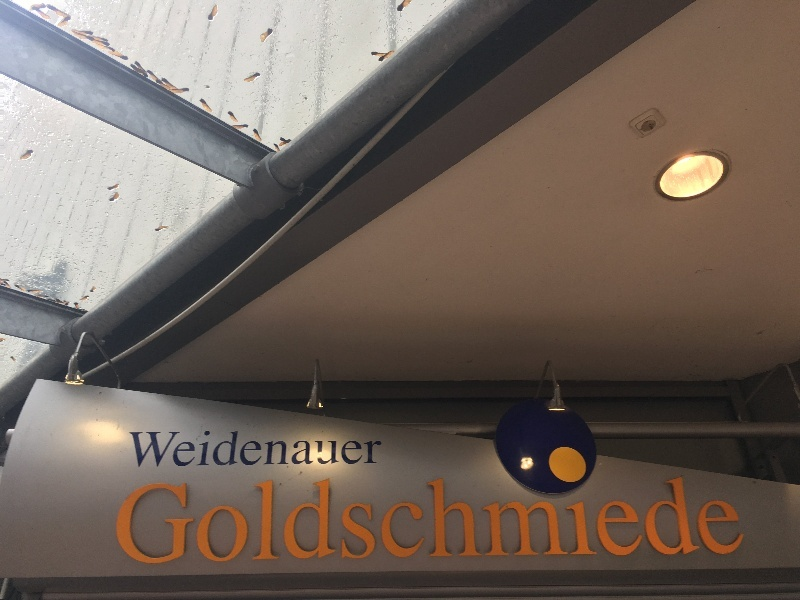text: (129, 431, 144, 568), (145, 431, 160, 568), (161, 431, 176, 568), (177, 431, 192, 568), (193, 431, 208, 568), (209, 431, 224, 568), (225, 431, 240, 568), (241, 431, 256, 568), (257, 431, 272, 568), (273, 431, 288, 568), (289, 431, 304, 568), (305, 431, 320, 568), (321, 431, 336, 568), (337, 431, 352, 568), (353, 431, 368, 568), (369, 431, 384, 568), (385, 431, 400, 568), (401, 431, 416, 568), (417, 431, 432, 568), (433, 431, 448, 568), (449, 431, 464, 568), (465, 431, 480, 568), (481, 431, 496, 568), (497, 431, 512, 568), (513, 431, 528, 568), (529, 431, 544, 568), (545, 431, 560, 568), (561, 431, 576, 568), (577, 431, 592, 568), (593, 431, 608, 568), (609, 431, 624, 568), (625, 431, 640, 568), (641, 431, 656, 568), (657, 431, 672, 568), (673, 431, 688, 568), (689, 431, 704, 568), (705, 431, 720, 568), (721, 431, 736, 568), (117, 431, 128, 568), (737, 431, 747, 568), (129, 423, 144, 469), (145, 423, 160, 469), (161, 423, 176, 469), (177, 423, 192, 469), (193, 423, 208, 469), (209, 423, 224, 469), (225, 423, 240, 469), (241, 423, 256, 469), (257, 423, 272, 469), (273, 423, 288, 469), (289, 423, 304, 469), (305, 423, 320, 469), (321, 423, 336, 469), (337, 423, 352, 469), (353, 423, 368, 469), (369, 423, 383, 469), (126, 423, 128, 469)
